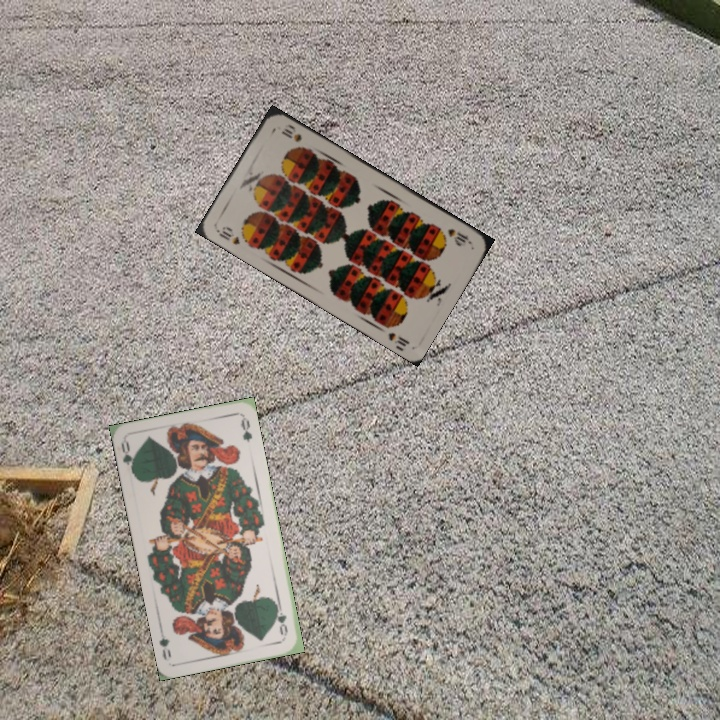GO: (117, 437, 138, 477), (271, 599, 290, 639)
S10: (213, 222, 243, 247), (444, 224, 474, 247)
